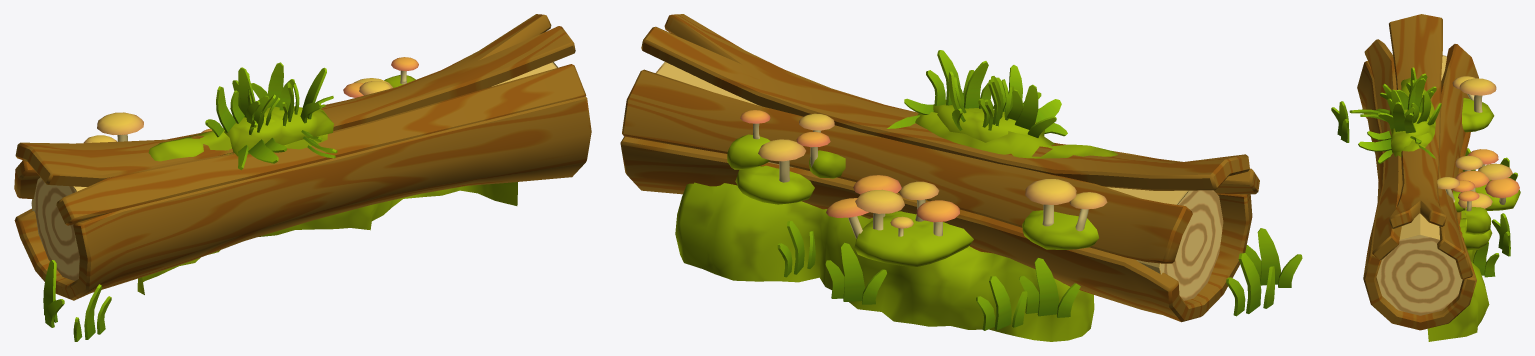
File: log.glb
The picture shows the model from 3 angles, left to right: view 1: azimuth 30°, elevation 25°; view 2: azimuth 150°, elevation 25°; view 3: azimuth 270°, elevation 25°; orthographic projection. The views are drawn at different scales.
Parts seen in each view (by area): view 1: Object_7.001; view 2: Object_7.001; view 3: Object_7.001.
Part boxes in pixels (box(x1,y1,x2,y2)): Object_7.001: box(14, 14, 591, 341); Object_7.001: box(620, 14, 1302, 341); Object_7.001: box(1331, 14, 1520, 341).
Size of the model in its own units: 2.04 by 0.7628 by 0.796.
45 materials, 45 textured.
